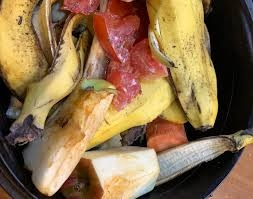kitchen_waste: (1, 1, 84, 147), (143, 1, 233, 132), (153, 122, 253, 189), (58, 139, 164, 199), (89, 6, 147, 60), (102, 60, 143, 113)
